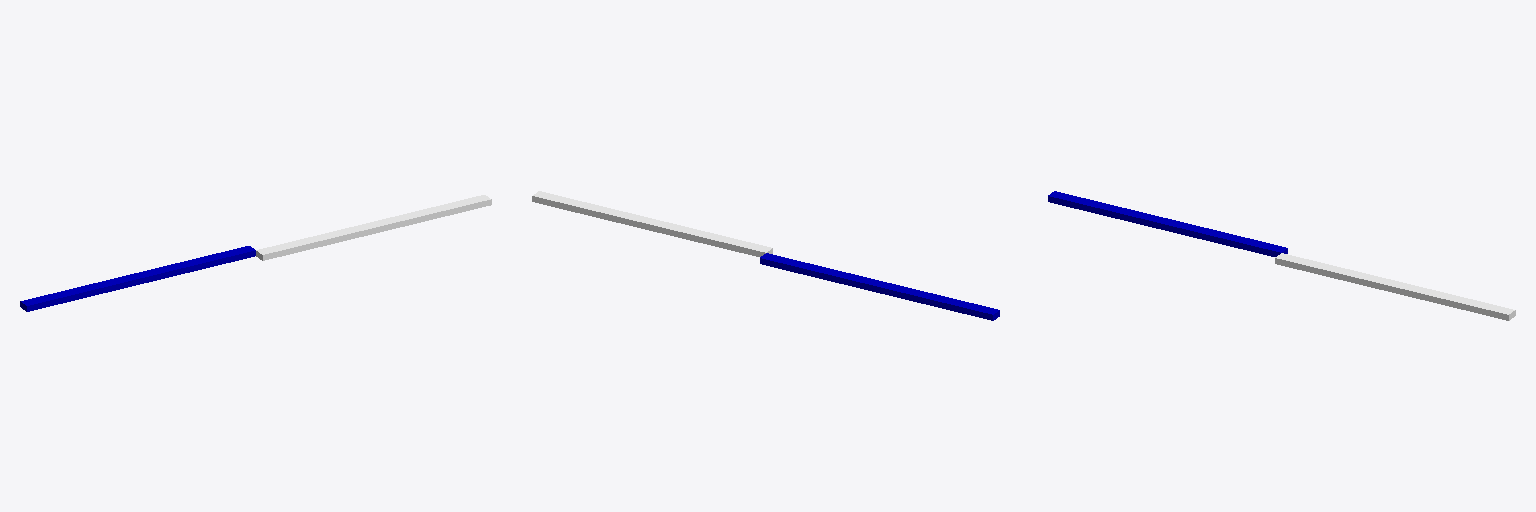
The robot description file, URDF, robot "TwoJointRobot":
<?xml version="1.0" ?>
<!-- =================================================================================== -->
<!-- |    This document was autogenerated by xacro from TwoJointRobot.xacro            | -->
<!-- |    EDITING THIS FILE BY HAND IS NOT RECOMMENDED                                 | -->
<!-- =================================================================================== -->
<robot name="TwoJointRobot" xmlns:xacro="http://www.ros.org/wiki/xacro">
  <material name="blue">
    <color rgba="0 0 0.8 1"/>
  </material>
  <material name="white">
    <color rgba="1 1 1 1"/>
  </material>
  <link name="base_link">
    <visual>
      <geometry>
        <cylinder length="0.00" radius="0.000"/>
      </geometry>
      <origin rpy="0 0 0" xyz="0 0 0.00"/>
    </visual>
    <collision>
      <geometry>
        <cylinder length="0.00" radius="0.00"/>
      </geometry>
      <origin rpy="0 0 0" xyz="0 0 0.00"/>
    </collision>
    <inertial>
      <mass value="0.0"/>
      <inertia ixx="0.000322916666667" ixy="0.0" ixz="0.0" iyy="0.000322916666667" iyz="0.0" izz="0.0005625"/>
    </inertial>
  </link>
  <link name="link_01_cyl">
    <visual>
      <geometry>
        <cylinder length="0.1" radius="0.00"/>
      </geometry>
      <origin rpy="0 0 0" xyz="0 0 0"/>
      <material name="blue"/>
    </visual>
    <collision>
      <geometry>
        <cylinder length="0.1" radius="0.000"/>
      </geometry>
      <origin rpy="0 0 0" xyz="0 0 0"/>
    </collision>
    <inertial>
      <mass value="0.0"/>
      <inertia ixx="0.000322916666667" ixy="0.0" ixz="0.0" iyy="0.000322916666667" iyz="0.0" izz="0.0005625"/>
    </inertial>
  </link>
  <link name="link_12_cyl">
    <visual>
      <geometry>
        <cylinder length="0.1" radius="0.000"/>
      </geometry>
      <origin rpy="0 0 0" xyz="0 0 0"/>
      <material name="blue"/>
    </visual>
    <collision>
      <geometry>
        <cylinder length="0.1" radius="0.000"/>
      </geometry>
      <origin rpy="0 0 0" xyz="0 0 0"/>
    </collision>
    <inertial>
      <mass value="0.0"/>
      <inertia ixx="0.000322916666667" ixy="0.0" ixz="0.0" iyy="0.000322916666667" iyz="0.0" izz="0.0005625"/>
    </inertial>
  </link>
  <link name="link_21_cyl">
    <visual>
      <geometry>
        <cylinder length="0.1" radius="0.000"/>
      </geometry>
      <origin rpy="0 0 0" xyz="0 0 0"/>
      <material name="white"/>
    </visual>
    <collision>
      <geometry>
        <cylinder length="0.1" radius="0.000"/>
      </geometry>
      <origin rpy="0 0 0" xyz="0 0 0"/>
    </collision>
    <inertial>
      <mass value="0.2"/>
      <inertia ixx="0.000322916666667" ixy="0.0" ixz="0.0" iyy="0.000322916666667" iyz="0.0" izz="0.0005625"/>
    </inertial>
  </link>
  <link name="link_23_cyl">
    <visual>
      <geometry>
        <cylinder length="0.1" radius="0.00"/>
      </geometry>
      <origin rpy="0 0 0" xyz="0 0 0"/>
      <material name="white"/>
    </visual>
    <collision>
      <geometry>
        <cylinder length="0.1" radius="0.00"/>
      </geometry>
      <origin rpy="0 0 0" xyz="0 0 0"/>
    </collision>
    <inertial>
      <mass value="0.0"/>
      <inertia ixx="0.000322916666667" ixy="0.0" ixz="0.0" iyy="0.000322916666667" iyz="0.0" izz="0.0005625"/>
    </inertial>
  </link>
  <link name="link_1">
    <visual>
      <geometry>
        <box size="2.0 0.1 0.05"/>
      </geometry>
      <origin rpy="0 0 0" xyz="1.0 0.1 0"/>
      <material name="blue"/>
    </visual>
    <collision>
      <geometry>
        <box size="2.0 0.1 0.05"/>
      </geometry>
      <origin rpy="0 0 0" xyz="1.0 0 0"/>
    </collision>
    <inertial>
      <mass value="1"/>
      <inertia ixx="1" ixy="0" ixz="0" iyy="1" iyz="0" izz="1"/>
    </inertial>
  </link>
  <link name="link_2">
    <visual>
      <geometry>
        <box size="2.0 0.1 0.05"/>
      </geometry>
      <origin rpy="0 0 0" xyz="1.0 0 0"/>
      <material name="white"/>
    </visual>
    <collision>
      <geometry>
        <box size="2.0 0.1 0.05"/>
      </geometry>
      <origin rpy="0 0 0" xyz="1.0 0 0"/>
    </collision>
    <inertial>
      <mass value="1"/>
      <inertia ixx="1" ixy="0" ixz="0" iyy="1" iyz="0" izz="1"/>
    </inertial>
  </link>
  <joint name="link_01" type="fixed">
    <origin rpy="0 0 0" xyz="0 0 0"/>
    <parent link="link_01_cyl"/>
    <child link="link_1"/>
  </joint>
  <joint name="link_12" type="fixed">
    <origin rpy="0 0 0" xyz="1.0 0 0"/>
    <parent link="link_1"/>
    <child link="link_12_cyl"/>
  </joint>
  <joint name="link_21" type="fixed">
    <origin rpy="0 0 0" xyz="0 0 0"/>
    <parent link="link_21_cyl"/>
    <child link="link_2"/>
  </joint>
  <joint name="link_23" type="fixed">
    <origin rpy="0 0 0" xyz="1.0 0 0"/>
    <parent link="link_2"/>
    <child link="link_23_cyl"/>
  </joint>
  <joint name="joint_1" type="revolute">
    <axis xyz="0 -1 0"/>
    <limit effort="10000"  velocity="50"/>
    <dynamics damping="0" friction="0"/>
    <origin rpy="0 0 0" xyz="0 0 0.00"/>
    <parent link="base_link"/>
    <child link="link_01_cyl"/>
  </joint>
  <joint name="joint_2" type="revolute">
    <axis xyz="0 -1 0"/>
    <limit effort="10000" velocity="50"/>
    <dynamics damping="0" friction="0"/>
    <origin rpy="0 0 0" xyz="1.0 0. 0.00"/>
    <parent link="link_12_cyl"/>
    <child link="link_21_cyl"/>
  </joint>
</robot>

--- Facts derived from the render (not from the file) ---
Views: 3 orthographic renders of the robot side by side, from view 1: azimuth 30°, elevation 25°; view 2: azimuth 150°, elevation 25°; view 3: azimuth 330°, elevation 25°.
Robot: TwoJointRobot — 7 links, 6 joints (2 revolute, 4 fixed); root link base_link; default pose: every joint at zero.
Links seen in each view (by area): view 1: link_1, link_2; view 2: link_1, link_2; view 3: link_2, link_1.
Link boxes in pixels (bbox=[...]): link_1: bbox=[20, 246, 255, 311]; link_2: bbox=[256, 195, 491, 260]; link_1: bbox=[760, 253, 999, 320]; link_2: bbox=[532, 191, 772, 256]; link_2: bbox=[1275, 253, 1515, 320]; link_1: bbox=[1048, 191, 1287, 256].
Size in the robot's own frame: 4 by 0.2 by 0.1 metres.
Geometry: primitives only (box / cylinder / sphere), no mesh files.
